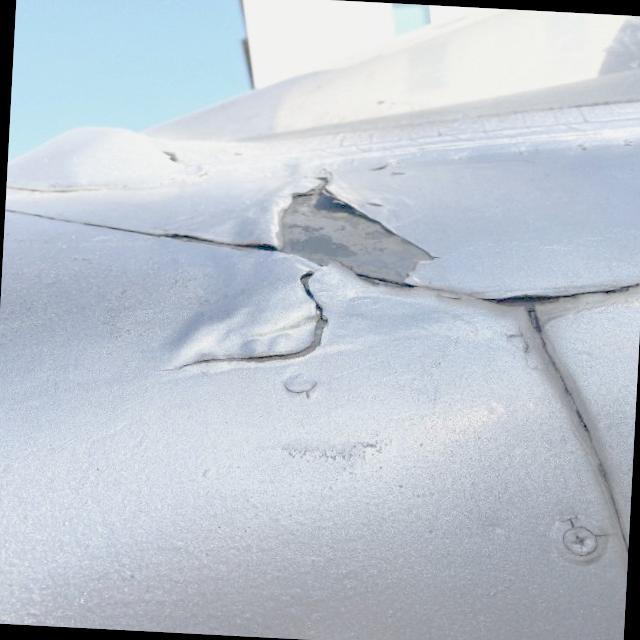crack: (160, 334, 316, 371), (556, 516, 608, 560), (278, 382, 328, 410)
